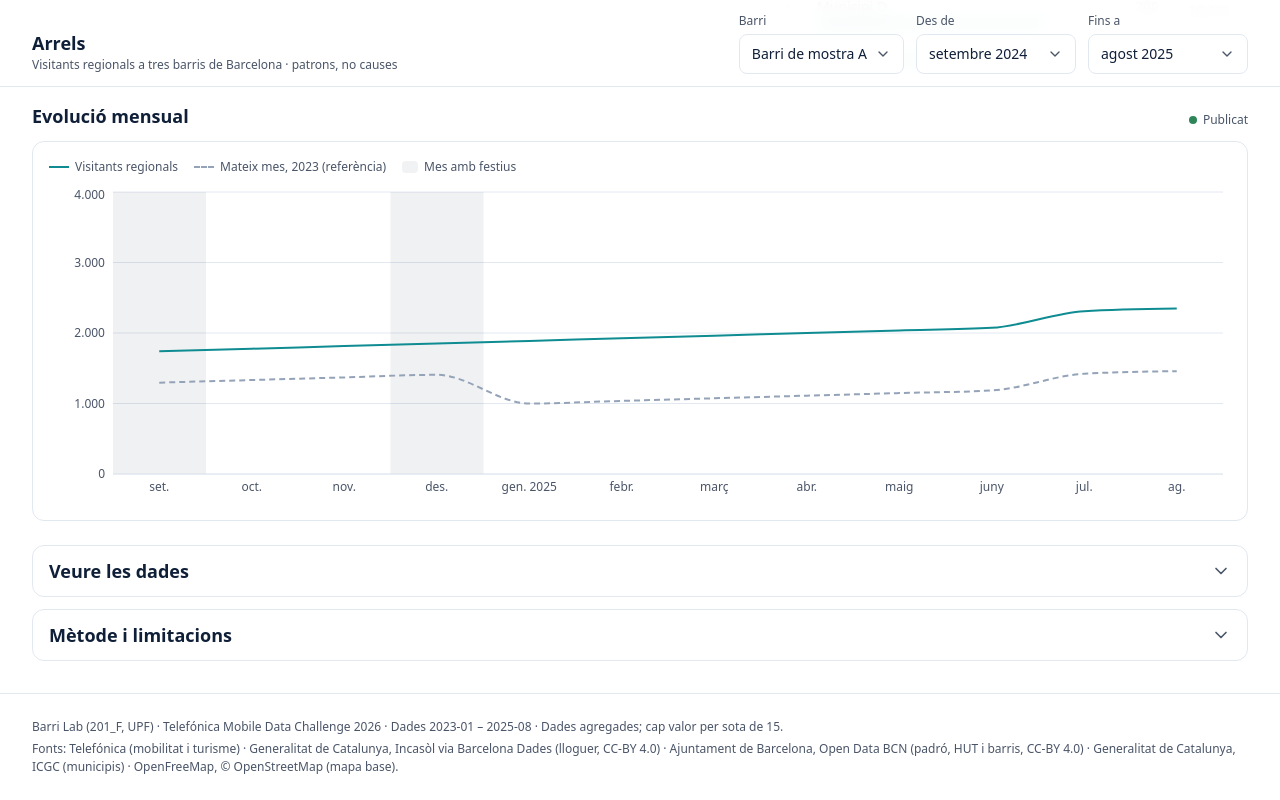
it: App › has a collapsed 'Mètode i limitacions' section that opens
(page scrolled)
Click the button "Mètode i limitacions" at (140, 635), box [33,610,1247,660]
(page scrolled)
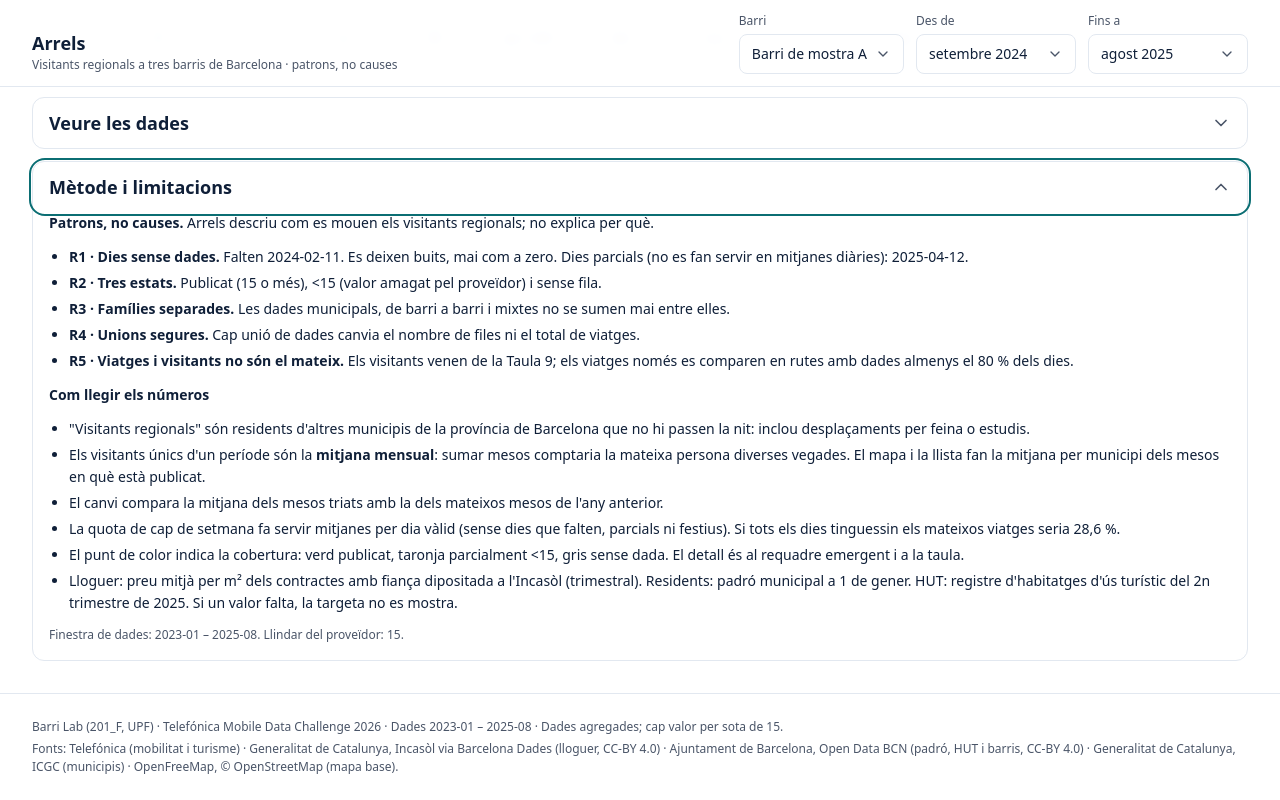
Expected: the element named "Mètode i limitacions" shows "Patrons, no causes", [49,213,183,232]
